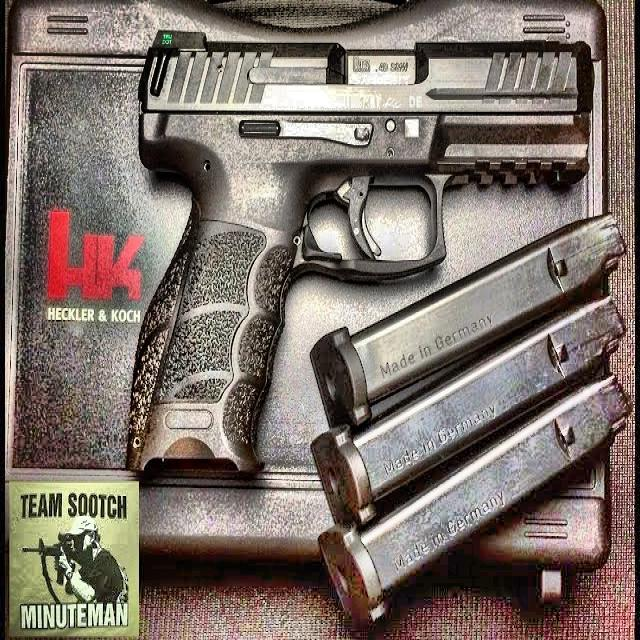HKVP9: (138, 18, 593, 473)
